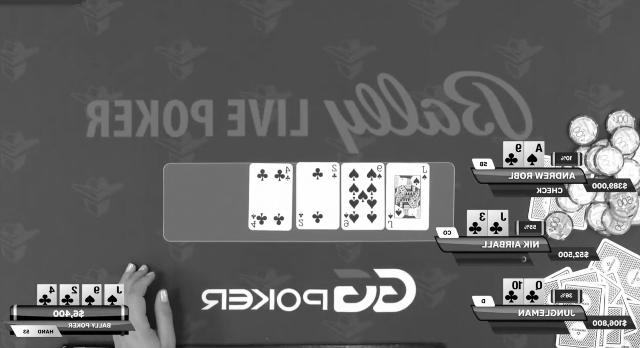10C: (504, 280, 522, 304)
2C: (60, 285, 78, 305)
3C: (468, 210, 486, 236)
4C: (38, 284, 56, 306)
9C: (504, 143, 522, 167)
9S: (83, 285, 101, 305)
AS: (524, 142, 544, 166)
JC: (489, 211, 507, 235)
JS: (105, 285, 123, 305)
QC: (525, 280, 543, 304)
